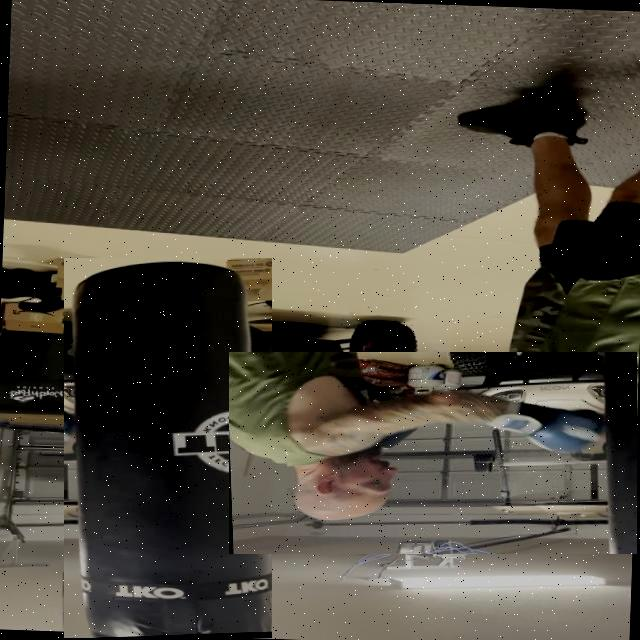punch: (229, 352, 637, 554)
